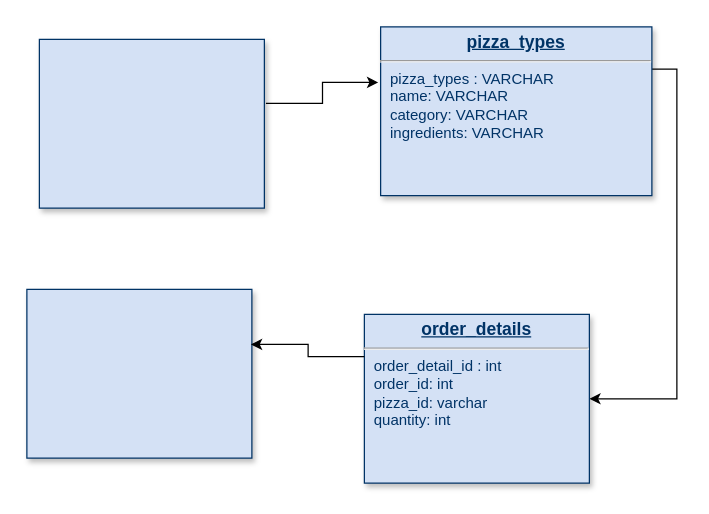
The diagram is 709 pixels wide and 514 high, and some of its shapes have lost their labels. The shapes that lost their labels are listed below. From the top down, each one's centre as x and y in pixels, then its label:
At point (152, 125): "pizzas pizza_id : Numeric pizza_type_id : Numeric size : Varchar price : Numeric".
At point (140, 375): "orders order_id : int date: date time : time".
